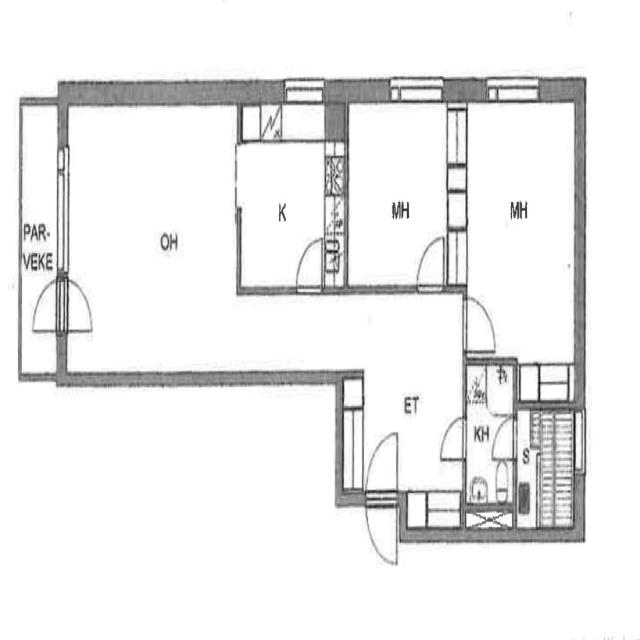door: (361, 422, 401, 574), (23, 270, 82, 339), (49, 272, 99, 339), (461, 290, 499, 358), (414, 230, 447, 294), (294, 232, 324, 297), (438, 411, 468, 467), (490, 414, 518, 464)
window: (50, 131, 74, 286), (482, 68, 544, 106), (388, 68, 448, 106), (282, 71, 326, 107), (574, 408, 590, 482)
zone: (62, 98, 239, 376), (451, 93, 582, 367), (345, 96, 463, 291), (236, 88, 346, 296), (514, 404, 582, 532), (465, 359, 515, 525)
